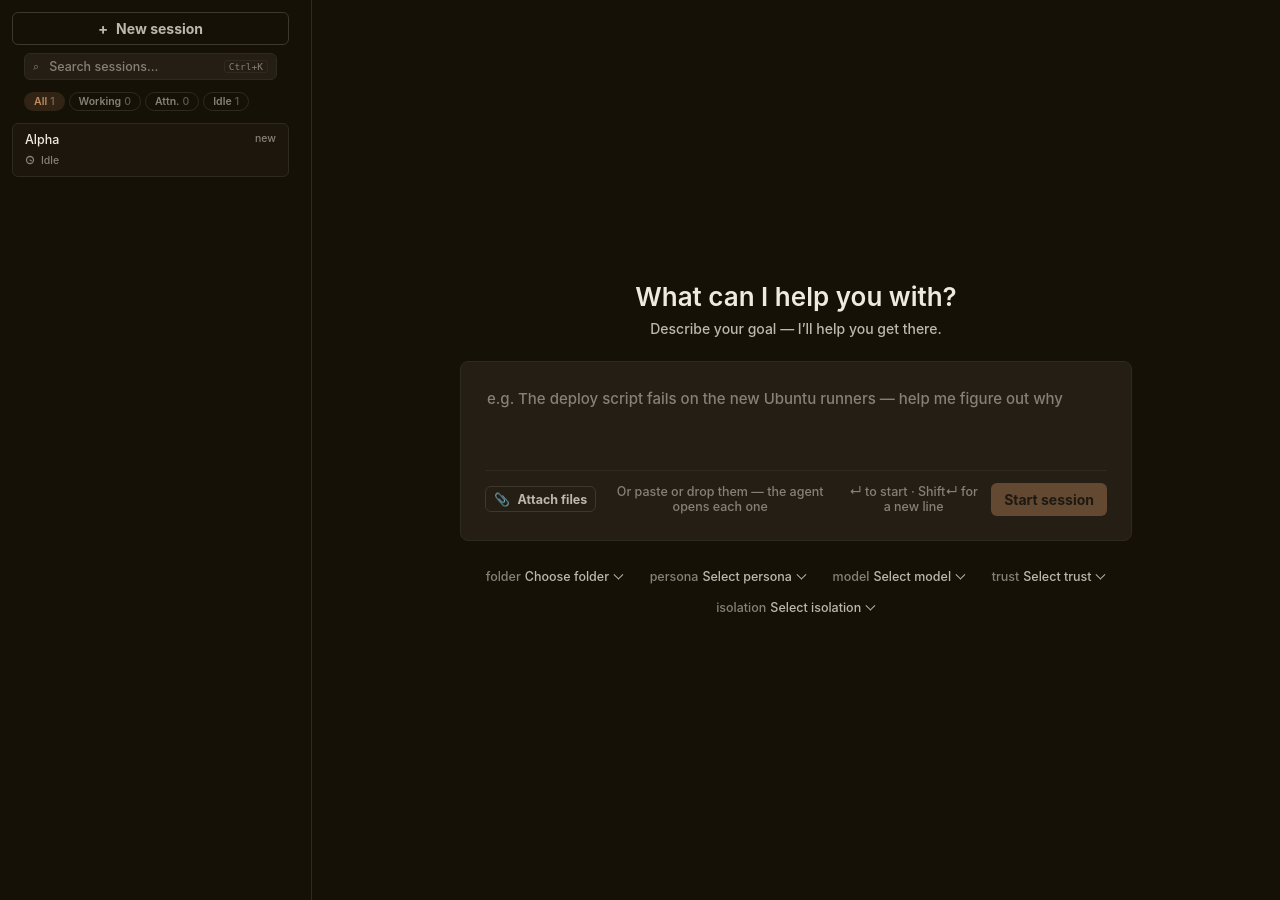
Test: SessionsSurface › selecting an inactive session renders without crashing
Click the text "Alpha".
click(42, 140)  # box [25,132,59,147]
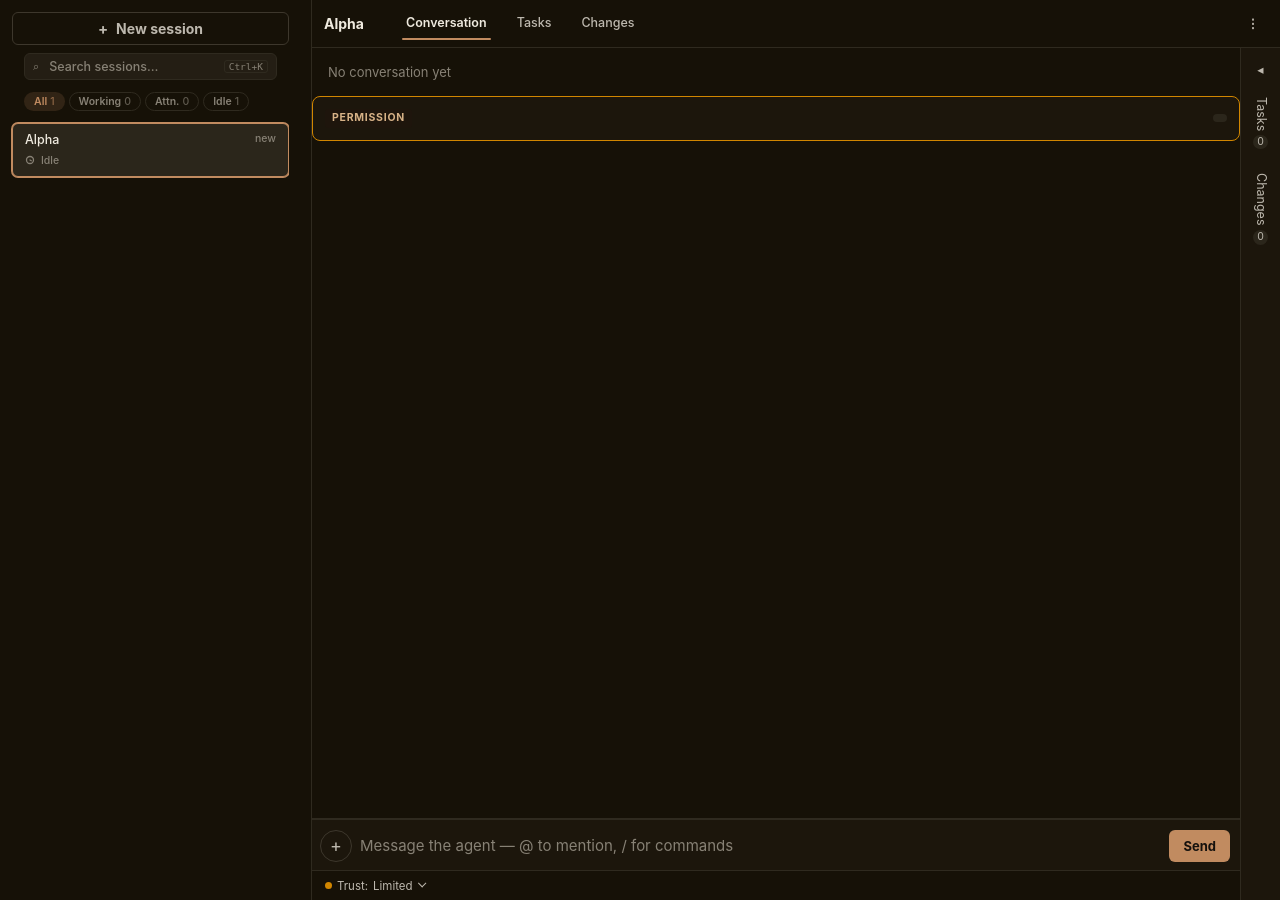
Check: the button named "Workspace actions" is shown, box [1238,10,1268,36]
Check: the element with test id "session-dock" is shown, box [312,818,1240,899]
